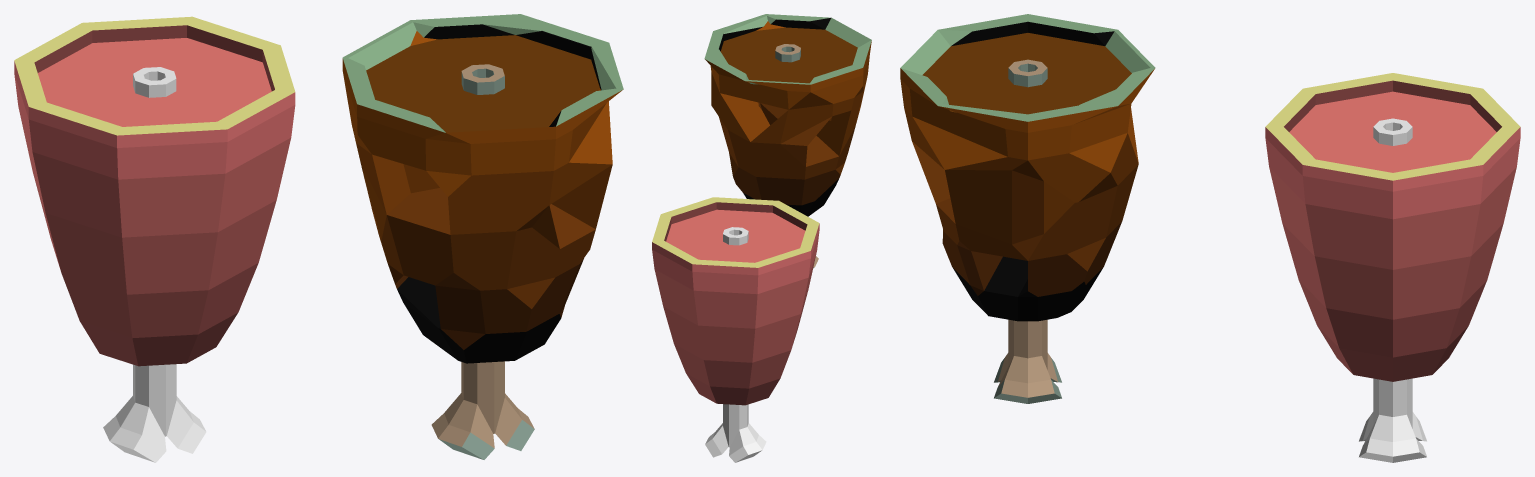
File: rottenmeat.fbx
3 views of the same model, side by side, from view 1: azimuth 30°, elevation 25°; view 2: azimuth 150°, elevation 25°; view 3: azimuth 270°, elevation 25° (orthographic). The views are drawn at different scales.
Visible parts, largest first — view 1: Plane; view 2: Plane; view 3: Plane.
Part boxes in pixels (x1,y1,x2,y2): Plane: [14, 14, 623, 462]; Plane: [652, 14, 871, 462]; Plane: [900, 14, 1520, 462].
Bounding box in the file's own units: 310 × 393 × 510.
